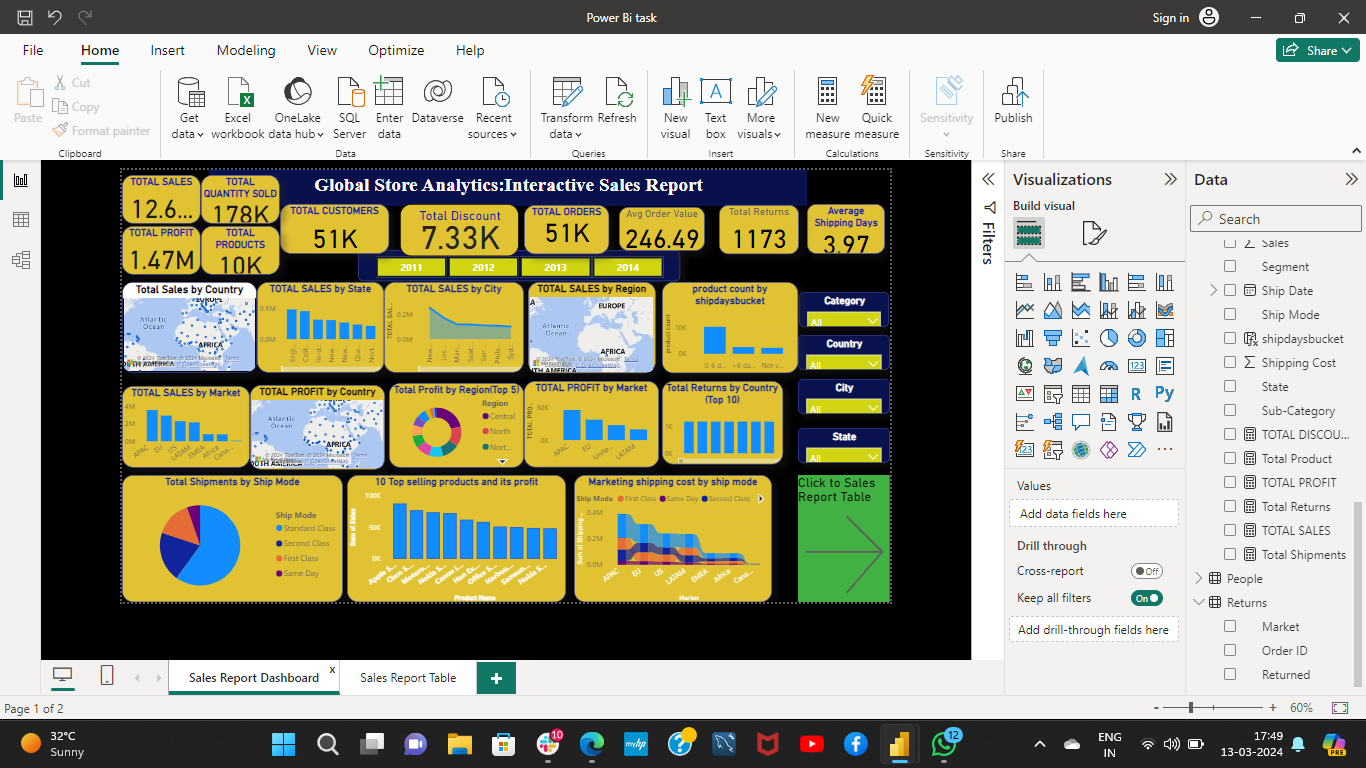

What the dashboard file says about the page in this screenshot:
{"tool":"powerbi","page":{"name":"Sales Report Dashboard","canvas":[1280,720],"ordinal":0},"visuals":[{"type":"textbox","box":[144.5,0,996.1,58.8],"z":0},{"type":"slicer","title":"Select the year","fields":{"Values":["Orders.Order Date.Variation.Date Hierarchy.Year"]},"box":[393.3,133.3,536.7,51.7],"z":1000},{"type":"card","title":"TOTAL SALES","fields":{"Values":["Sum(Orders.Sales)"]},"box":[0,8.4,131,80.6],"z":2000},{"type":"card","title":"TOTAL ORDERS","fields":{"Values":["Orders.order_count"]},"box":[670,58.3,141.7,81.7],"z":3000},{"type":"slicer","title":"Country","fields":{"Values":["Orders.Country"]},"box":[1126.7,274.3,153,58],"z":3000,"group":"g1"},{"type":"slicer","title":"Category","fields":{"Values":["Orders.Category"]},"box":[1128.8,203.3,150.5,58.4],"z":4000,"group":"g1"},{"type":"group","id":"g1","title":"Group 2","box":[1126.7,203.3,153.3,285],"z":4000},{"type":"card","title":"TOTAL CUSTOMERS","fields":{"Values":["Orders.CUSTOMER COUNT"]},"box":[263.3,56.7,181.7,83.3],"z":5000},{"type":"slicer","title":"City","fields":{"Values":["Orders.City"]},"box":[1126.7,348.3,153,58],"z":5000,"group":"g1"},{"type":"card","title":"TOTAL PROFIT","fields":{"Values":["Sum(Orders.Profit)"]},"box":[0,94.1,131,80.6],"z":6000},{"type":"slicer","title":"State","fields":{"Values":["Orders.State"]},"box":[1126.7,430.4,153,58],"z":6000,"group":"g1"},{"type":"card","title":"TOTAL QUANTITY SOLD","fields":{"Values":["Sum(Orders.Quantity)"]},"box":[131,8.4,131,80.6],"z":7000},{"type":"card","title":"TOTAL PRODUCTS","fields":{"Values":["Orders.product count"]},"box":[131,94.1,131,80.6],"z":8000},{"type":"card","title":"Average Shipping Days","fields":{"Values":["Avg(Orders.Day taken to ship)"]},"box":[1141.7,56.7,130,83.3],"z":9000},{"type":"card","title":"Total Discount","fields":{"Values":["Orders.TOTAL DISCOUNT"]},"box":[463.3,56.7,198.3,86.7],"z":10000},{"type":"card","title":"Avg Order Value","fields":{"Values":["Orders.Avg Order value"]},"box":[828.3,61.7,143.3,73.3],"z":11000},{"type":"card","title":"Total Returns","fields":{"Values":["Orders.Total Returns"]},"box":[995,58.3,133.3,81.7],"z":12000},{"type":"map","title":"Total Sales by Country","fields":{"Category":["Orders.Country"]},"box":[0,186.5,225.1,151.2],"z":13000},{"type":"clusteredColumnChart","fields":{"Category":["Orders.State"],"Y":["Orders.TOTAL SALES"]},"box":[225.1,186.5,211.7,151.2],"z":14000},{"type":"areaChart","fields":{"Category":["Orders.City"],"Y":["Orders.TOTAL SALES"]},"box":[436.7,186.5,233.5,151.2],"z":15000},{"type":"map","fields":{"Category":["Orders.Region"]},"box":[676.7,186.7,213.3,151.7],"z":16000},{"type":"columnChart","fields":{"Category":["Orders.Market"],"Y":["Orders.TOTAL SALES"]},"box":[0,359.5,213.3,136.1],"z":17000},{"type":"map","fields":{"Category":["Orders.Country"]},"box":[213.3,357.8,225.1,141.1],"z":18000},{"type":"donutChart","title":"Total Profit by Region(Top 5)","fields":{"Category":["Orders.Region"],"Y":["Orders.TOTAL PROFIT"]},"box":[445.1,354.4,225.1,141.1],"z":19000},{"type":"columnChart","fields":{"Category":["Returns.Market"],"Y":["Orders.TOTAL PROFIT"]},"box":[670.2,351.1,225.1,144.5],"z":20000},{"type":"columnChart","title":"Total Returns by Country (Top 10)","fields":{"Category":["Orders.Country"],"Y":["Orders.Total Returns"]},"box":[900.4,351.1,201.6,139.4],"z":21000},{"type":"clusteredColumnChart","fields":{"Category":["Orders.shipdaysbucket"],"Y":["Orders.product count"]},"box":[900,186.7,226.7,151.7],"z":22000},{"type":"pieChart","fields":{"Category":["Orders.Ship Mode"],"Y":["Orders.Total Shipments"]},"box":[0,508.3,368.3,211.7],"z":23000},{"type":"columnChart","title":"10 Top selling products and its profit","fields":{"Category":["Orders.Product Name"],"Y":["Sum(Orders.Sales)"]},"box":[375,508.3,365,211.7],"z":24000},{"type":"ribbonChart","title":"Marketing shipping cost by ship mode","fields":{"Category":["Orders.Market"],"Y":["Sum(Orders.Shipping Cost)"],"Series":["Orders.Ship Mode"]},"box":[753.3,508.3,330,211.7],"z":25000},{"type":"actionButton","title":"Click to Sales Report Table","box":[1126.7,508.3,153.3,211.7],"z":26000}]}

Visuals, with their boxes on the page's 1280x720 design canvas (x1, y1, x2, y2). These are canvas units, not pixel positions in the 1366x768 screenshot, which may show the page scaled, cropped or inside an application window:
textbox: (x1=144, y1=0, x2=1141, y2=59)
"Select the year" slicer: (x1=393, y1=133, x2=930, y2=185)
"TOTAL SALES" card: (x1=0, y1=8, x2=131, y2=89)
"TOTAL ORDERS" card: (x1=670, y1=58, x2=812, y2=140)
"Country" slicer: (x1=1127, y1=274, x2=1280, y2=332)
"Category" slicer: (x1=1129, y1=203, x2=1279, y2=262)
"Group 2" group: (x1=1127, y1=203, x2=1280, y2=488)
"TOTAL CUSTOMERS" card: (x1=263, y1=57, x2=445, y2=140)
"City" slicer: (x1=1127, y1=348, x2=1280, y2=406)
"TOTAL PROFIT" card: (x1=0, y1=94, x2=131, y2=175)
"State" slicer: (x1=1127, y1=430, x2=1280, y2=488)
"TOTAL QUANTITY SOLD" card: (x1=131, y1=8, x2=262, y2=89)
"TOTAL PRODUCTS" card: (x1=131, y1=94, x2=262, y2=175)
"Average Shipping Days" card: (x1=1142, y1=57, x2=1272, y2=140)
"Total Discount" card: (x1=463, y1=57, x2=662, y2=143)
"Avg Order Value" card: (x1=828, y1=62, x2=972, y2=135)
"Total Returns" card: (x1=995, y1=58, x2=1128, y2=140)
"Total Sales by Country" map: (x1=0, y1=186, x2=225, y2=338)
clusteredColumnChart - Orders.State x Orders.TOTAL SALES: (x1=225, y1=186, x2=437, y2=338)
areaChart - Orders.City x Orders.TOTAL SALES: (x1=437, y1=186, x2=670, y2=338)
map - Orders.Region: (x1=677, y1=187, x2=890, y2=338)
columnChart - Orders.Market x Orders.TOTAL SALES: (x1=0, y1=360, x2=213, y2=496)
map - Orders.Country: (x1=213, y1=358, x2=438, y2=499)
"Total Profit by Region(Top 5)" donutChart: (x1=445, y1=354, x2=670, y2=496)
columnChart - Returns.Market x Orders.TOTAL PROFIT: (x1=670, y1=351, x2=895, y2=496)
"Total Returns by Country (Top 10)" columnChart: (x1=900, y1=351, x2=1102, y2=490)
clusteredColumnChart - Orders.shipdaysbucket x Orders.product count: (x1=900, y1=187, x2=1127, y2=338)
pieChart - Orders.Ship Mode x Orders.Total Shipments: (x1=0, y1=508, x2=368, y2=720)
"10 Top selling products and its profit" columnChart: (x1=375, y1=508, x2=740, y2=720)
"Marketing shipping cost by ship mode" ribbonChart: (x1=753, y1=508, x2=1083, y2=720)
"Click to Sales Report Table" actionButton: (x1=1127, y1=508, x2=1280, y2=720)
